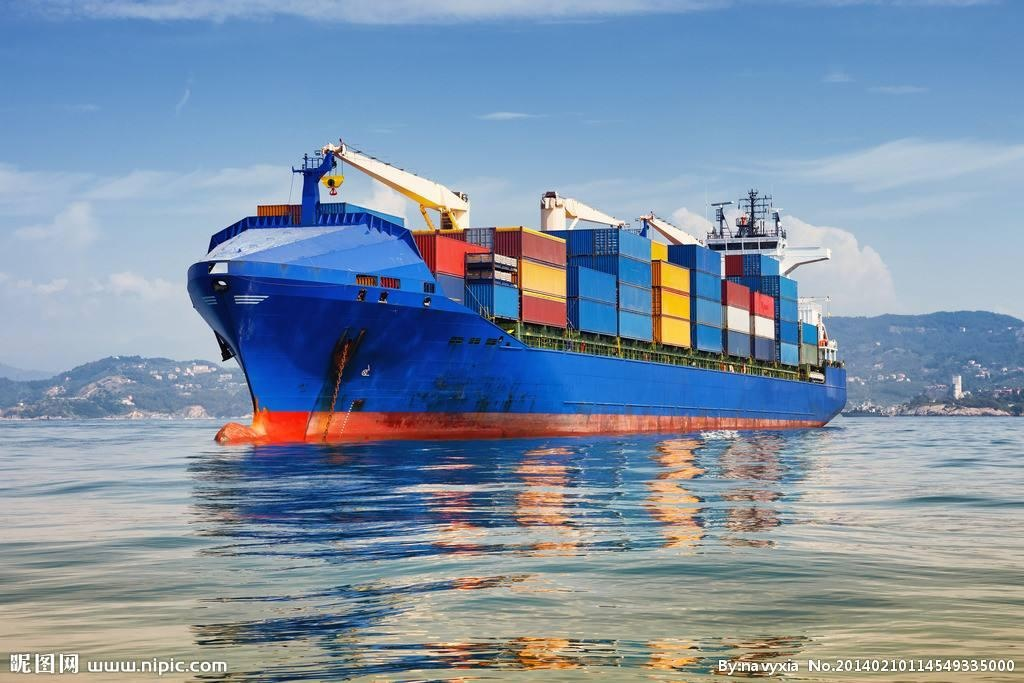Cargoship: (181, 136, 853, 444)
